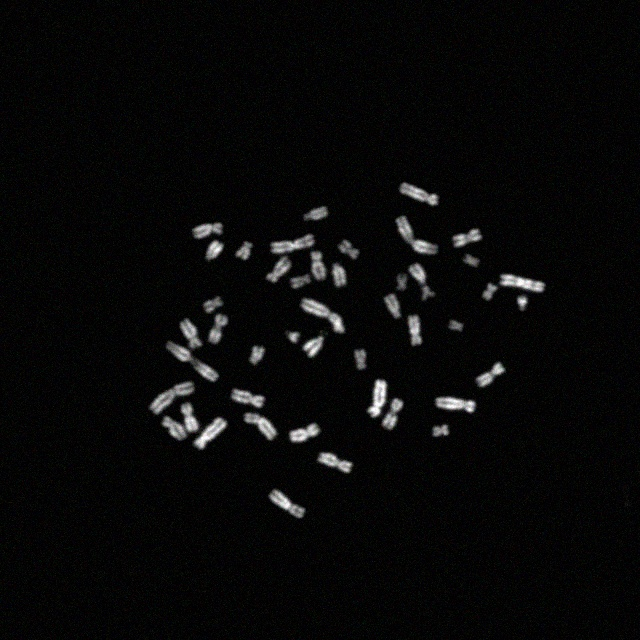chromosome: (165, 342, 219, 382), (397, 216, 438, 254), (301, 298, 344, 334), (150, 382, 194, 414), (408, 262, 436, 302), (269, 489, 305, 519), (195, 417, 228, 449), (399, 182, 438, 206), (268, 234, 316, 253), (500, 273, 544, 293), (244, 414, 276, 441), (476, 362, 506, 388), (368, 378, 387, 418), (266, 255, 292, 283), (316, 452, 352, 472), (180, 318, 202, 349), (382, 398, 403, 430), (435, 396, 475, 412), (452, 228, 482, 248), (290, 422, 320, 442), (208, 314, 228, 344), (232, 389, 264, 407), (181, 402, 199, 434), (162, 416, 186, 440), (192, 223, 223, 239), (302, 336, 324, 358), (382, 294, 402, 318), (408, 314, 422, 346), (310, 252, 326, 280), (203, 294, 223, 314), (304, 206, 328, 222), (332, 261, 346, 287), (339, 240, 359, 258), (235, 240, 253, 260), (205, 241, 223, 261), (290, 274, 310, 290), (249, 346, 265, 364), (484, 282, 498, 300), (354, 348, 366, 369), (433, 424, 449, 438), (282, 331, 300, 343), (464, 254, 480, 266), (448, 319, 464, 331), (396, 274, 406, 290), (517, 296, 527, 310)
